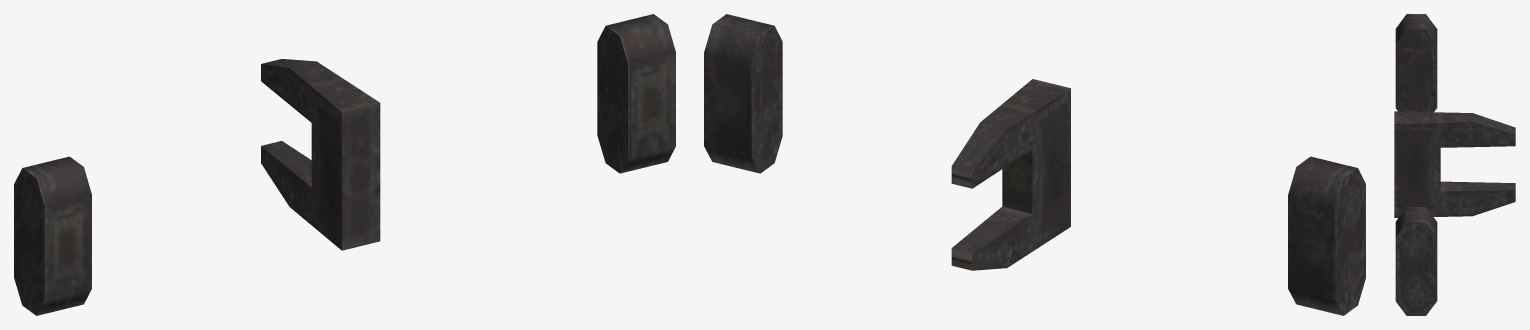
3 renders of one model, left to right at view 1: azimuth 30°, elevation 25°; view 2: azimuth 150°, elevation 25°; view 3: azimuth 270°, elevation 25°, orthographic. The views are drawn at different scales.
Visible parts, largest first — view 1: set_0_group_0; view 2: set_0_group_0; view 3: set_0_group_0.
Boxes of the visible parts, x1,y1,x2,y2 form: set_0_group_0: [14, 14, 675, 315]; set_0_group_0: [704, 14, 1365, 315]; set_0_group_0: [1394, 14, 1515, 315].
Bounding box in the file's own units: 0.5766 × 0.1213 × 0.1419.
1 material, 1 textured.
